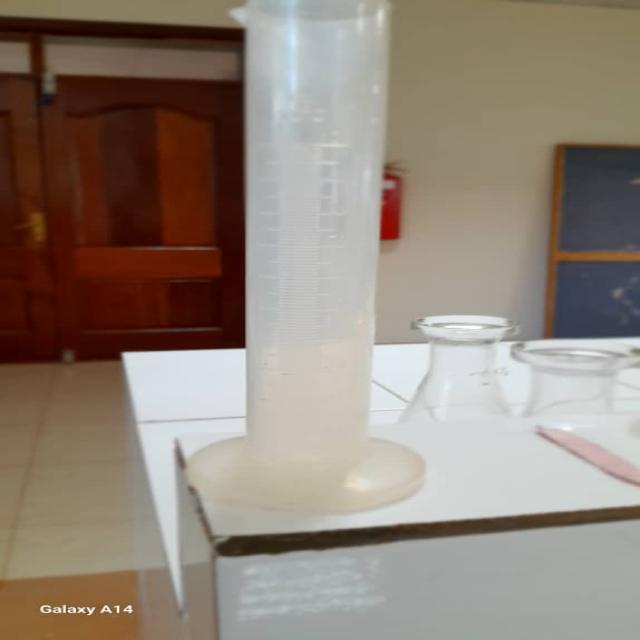Measuring Cylinder: (215, 8, 416, 503)
